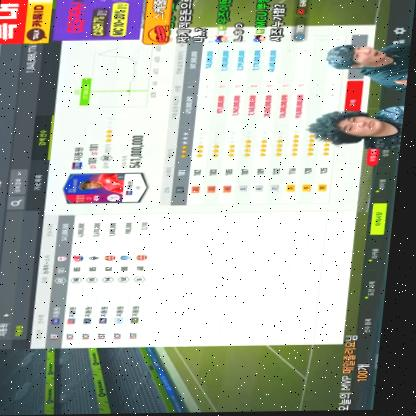streamer: (323, 41, 412, 96), (305, 107, 407, 152)
